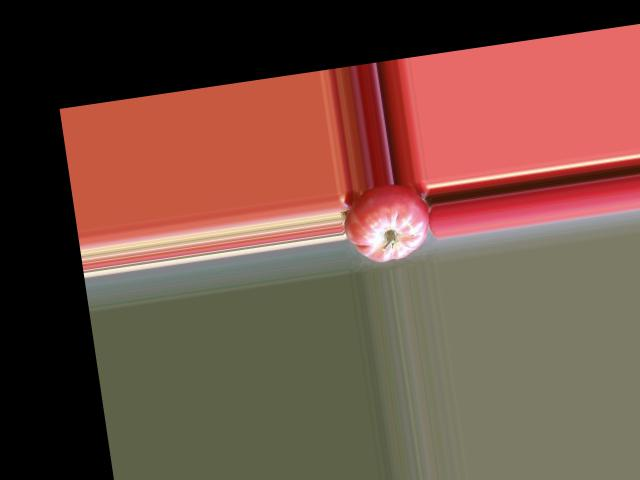tomato: (338, 179, 434, 266)
